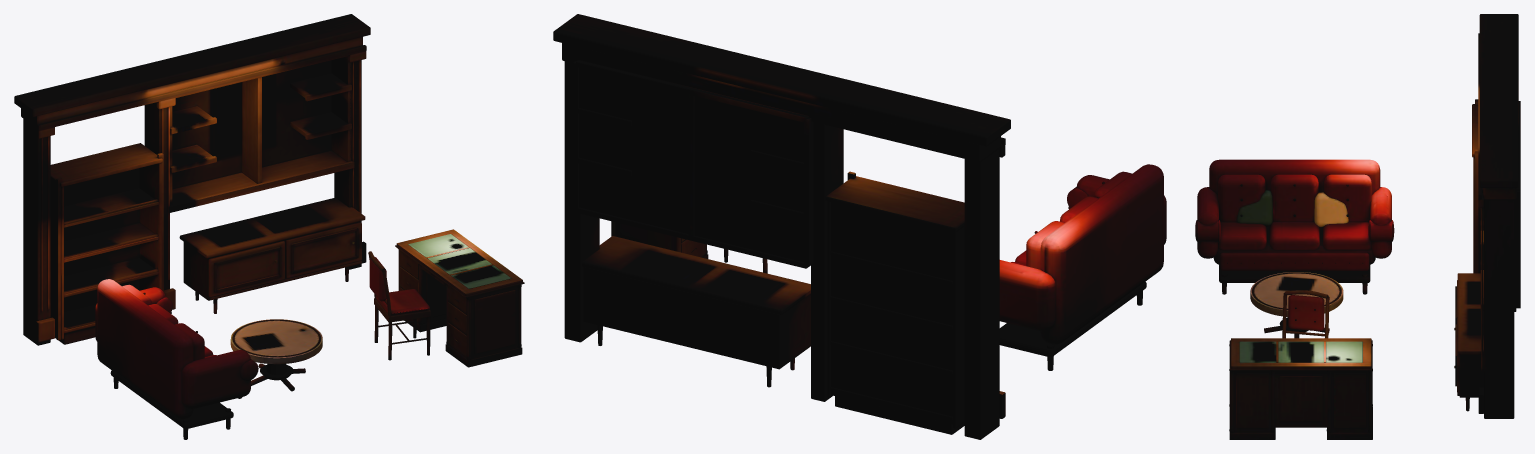
File: furniture.glb
3 views of the same model, side by side, from view 1: azimuth 30°, elevation 25°; view 2: azimuth 150°, elevation 25°; view 3: azimuth 270°, elevation 25° (orthographic). The views are drawn at different scales.
Parts seen in each view (by area): view 1: furniture; view 2: furniture; view 3: furniture.
Boxes of the visible parts, x1,y1,x2,y2 form: furniture: (14,14,524,439); furniture: (553,14,1166,439); furniture: (1195,14,1520,439).
Bounding box in the file's own units: 3.98 × 2.51 × 3.01.
Materials: 1 (1 with a texture image).
